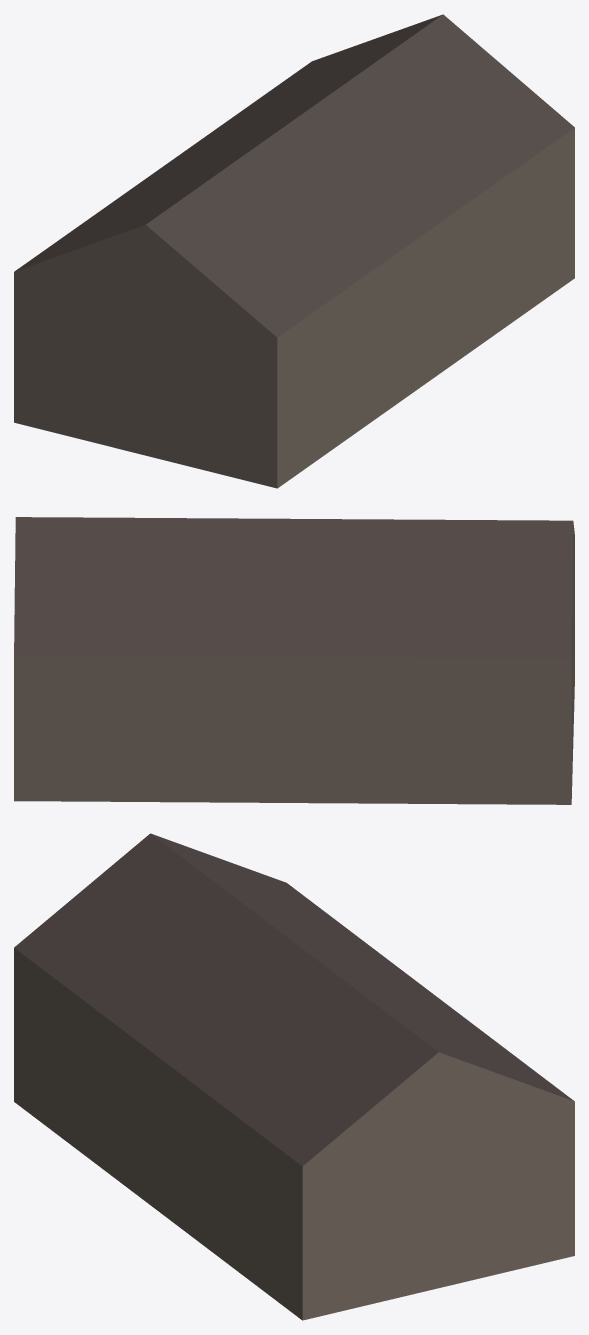
The picture shows the model from 3 angles, top to bottom: view 1: azimuth 30°, elevation 25°; view 2: azimuth 150°, elevation 25°; view 3: azimuth 270°, elevation 25°; orthographic projection. The views are drawn at different scales.
Visible parts, largest first — view 1: HP-w859424165; view 2: HP-w859424165; view 3: HP-w859424165.
Part boxes in pixels (<box>): HP-w859424165: <box>14,14,574,488</box>; HP-w859424165: <box>14,517,574,804</box>; HP-w859424165: <box>14,833,574,1320</box>.
Size of the model in its own units: 23.68 by 9.19 by 19.79.
